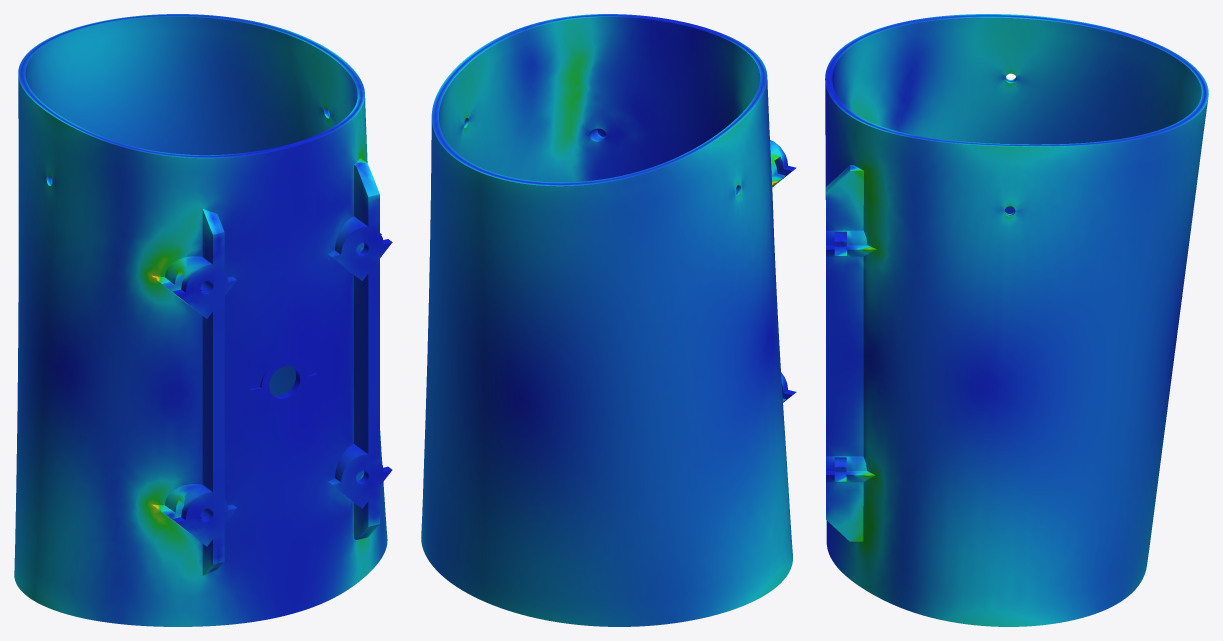
Rendered from result.glb.
3 renders of one model, left to right at view 1: azimuth 30°, elevation 25°; view 2: azimuth 150°, elevation 25°; view 3: azimuth 270°, elevation 25°, orthographic.
Visible parts, largest first — view 1: 75dde284-f6af-5e0f-876b-8676f8f9c983 von Mises; view 2: 75dde284-f6af-5e0f-876b-8676f8f9c983 von Mises; view 3: 75dde284-f6af-5e0f-876b-8676f8f9c983 von Mises.
Part boxes in pixels (x1,y1,x2,y2): 75dde284-f6af-5e0f-876b-8676f8f9c983 von Mises: (14, 14, 392, 626); 75dde284-f6af-5e0f-876b-8676f8f9c983 von Mises: (421, 14, 796, 626); 75dde284-f6af-5e0f-876b-8676f8f9c983 von Mises: (825, 14, 1208, 626).
Size of the model in its own units: 0.0877 by 0.119 by 0.0863.
1 material, 1 textured.
